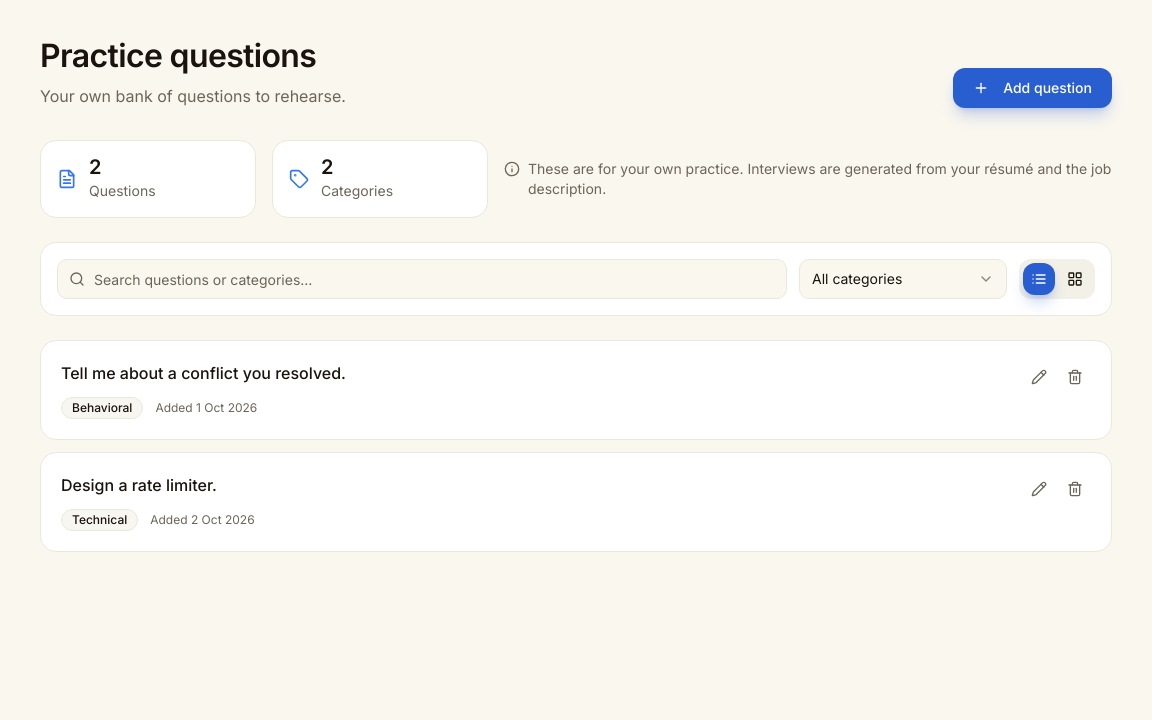
PracticeQuestions › explains an empty search and clears it
Expected: the text "Design a rate limiter." is shown, [61,475,217,495]
Step 1. Type "kubernetes" into the search field labelled "Search questions" → (422, 279), box [57,259,787,299]
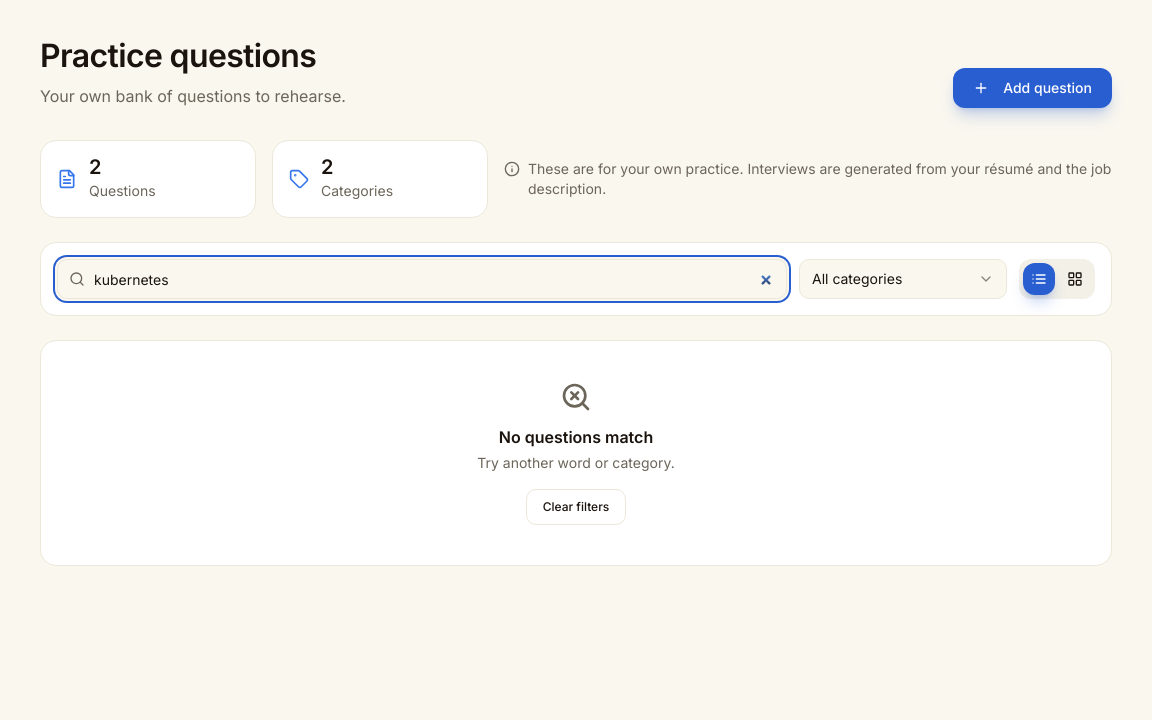
Expected: the heading "No questions match" is shown, [499,427,653,447]
Step 2. Click the button "Clear filters" → (576, 507), box [526,489,626,525]
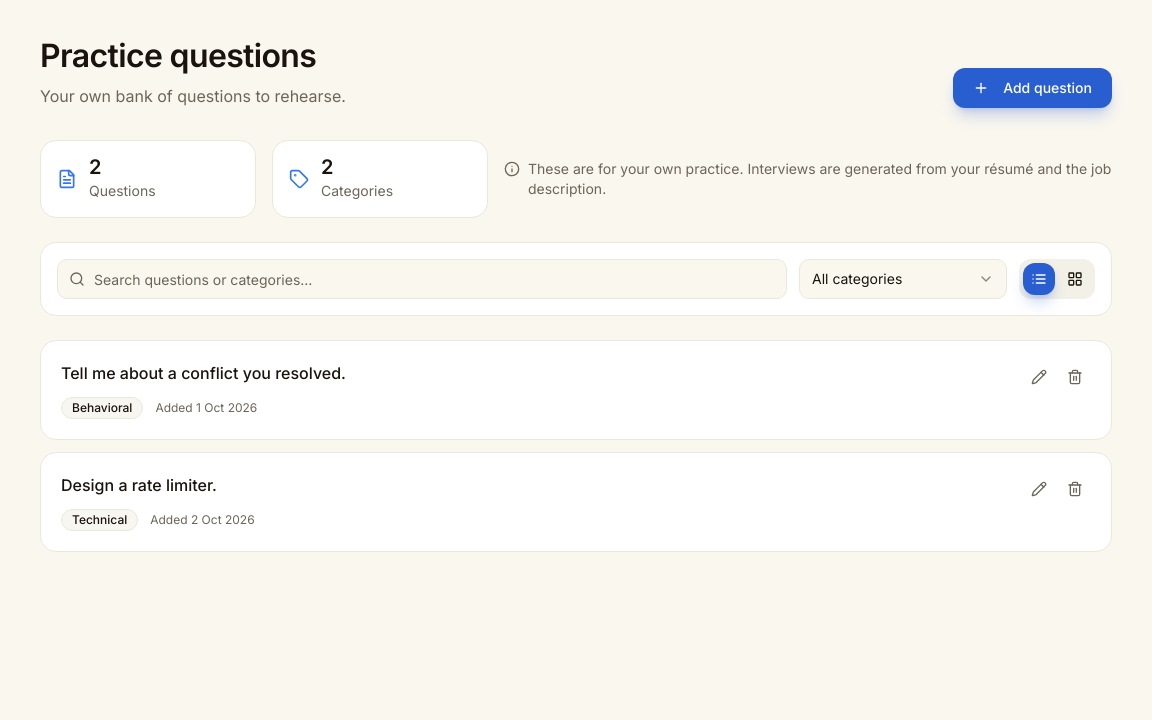
Expected: the text "Design a rate limiter." is shown, [61,475,217,495]
